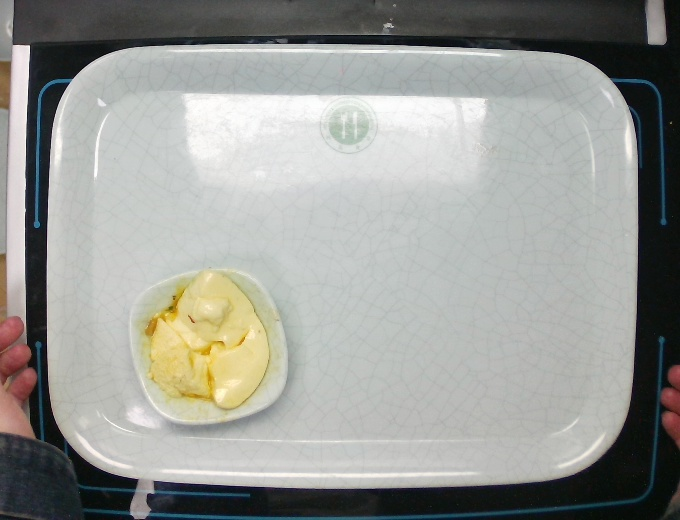JYsf-Si_Fang_Die: (126, 265, 290, 427)
